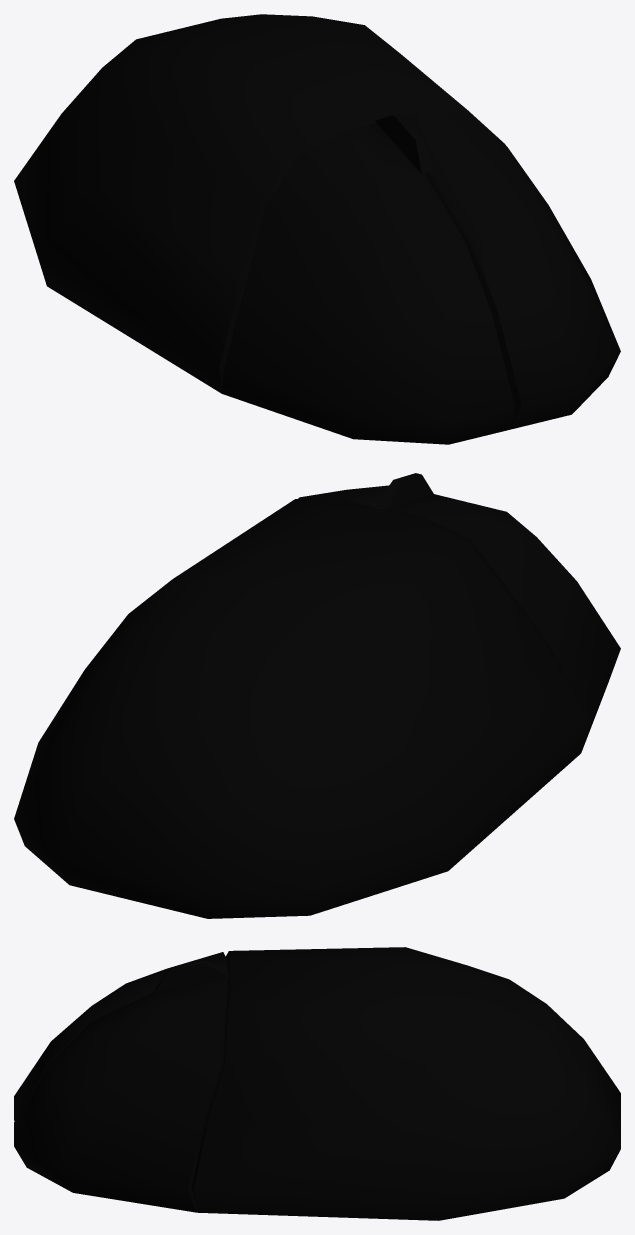
File: Computer_MouseNPad.fbx
The picture shows the model from 3 angles, top to bottom: view 1: azimuth 30°, elevation 25°; view 2: azimuth 150°, elevation 25°; view 3: azimuth 270°, elevation 25°; orthographic projection. The views are drawn at different scales.
Parts seen in each view (by area): view 1: Mouse; view 2: Mouse; view 3: Mouse.
Boxes of the visible parts, x1,y1,x2,y2 form: Mouse: (14,14,620,444); Mouse: (14,473,620,918); Mouse: (14,947,620,1220).
Size of what is drawn, in the model's own units: 6 by 3.22 by 9.71.
